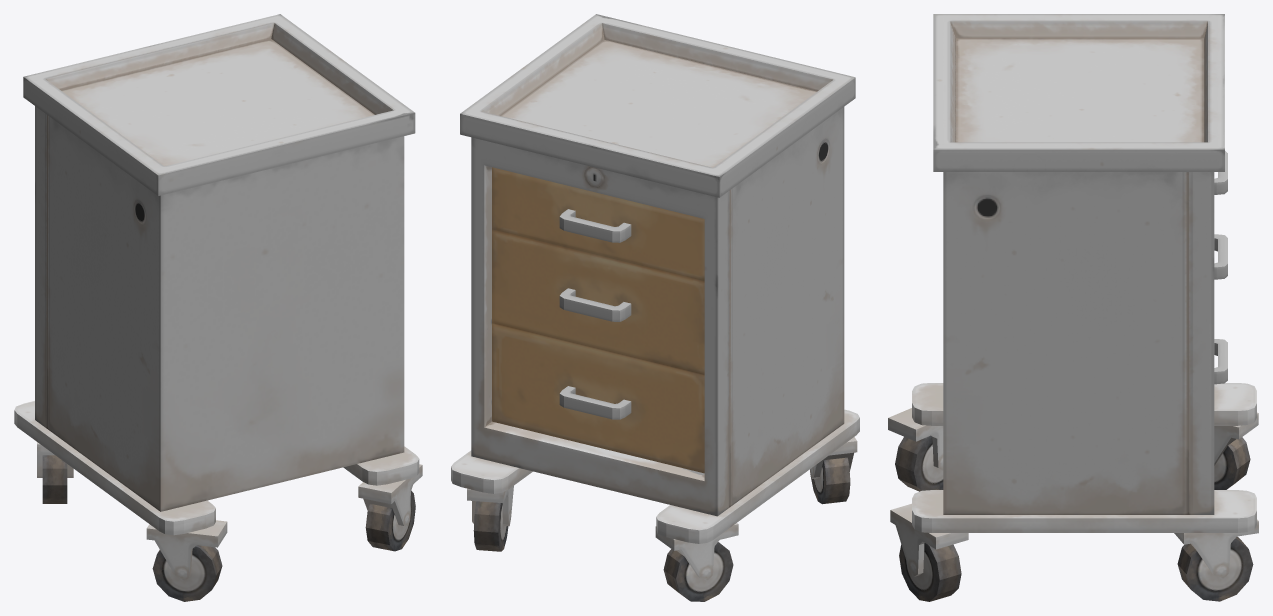
Rendered from P_Cabinet_033_S1_M01.obj.
3 views of the same model, side by side, from view 1: azimuth 30°, elevation 25°; view 2: azimuth 150°, elevation 25°; view 3: azimuth 270°, elevation 25° (orthographic). The views are drawn at different scales.
Bounding box in the file's own units: 0.7226 × 1.08 × 0.7894.
Materials: 1 (1 with a texture image).
